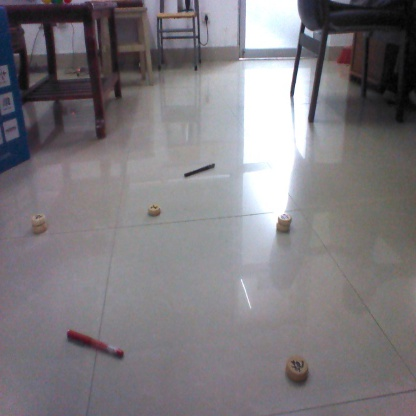chess: (285, 356, 310, 381), (275, 209, 294, 238), (30, 210, 49, 236), (144, 202, 164, 220)
pen: (65, 329, 128, 358), (184, 160, 218, 176)
